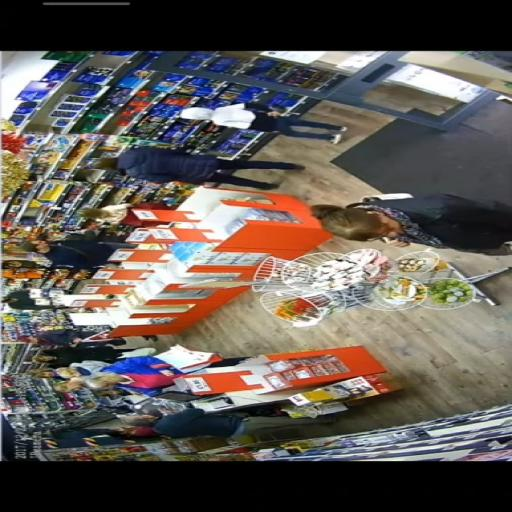workers: (84, 352, 230, 396), (24, 234, 131, 271), (80, 196, 166, 230)
